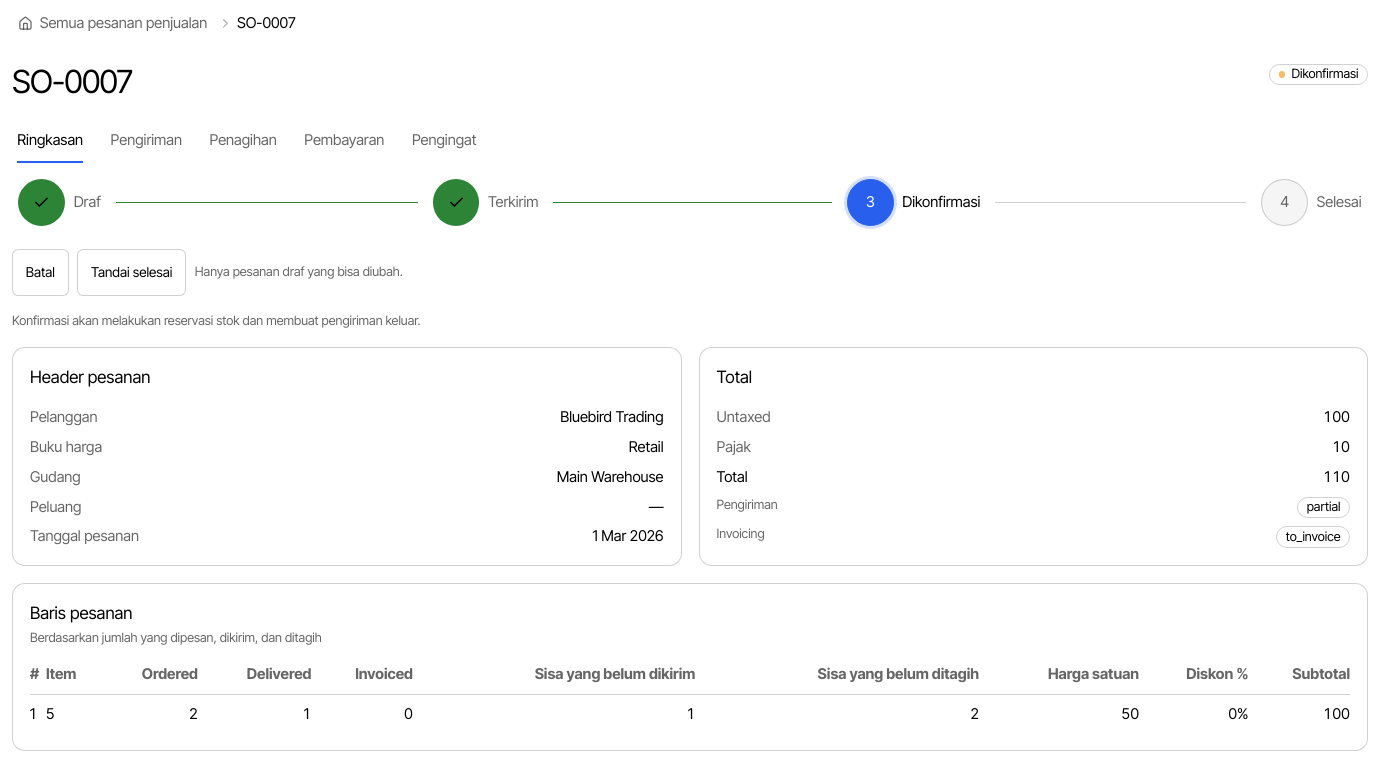
SaleOrderDetail › switches to the delivery tab on selection
What coordinates should you click on to do the following:
click the tab "Pengiriman"
I would click on:
 (146, 141)
Its box is x1=110 y1=117 x2=183 y2=164.
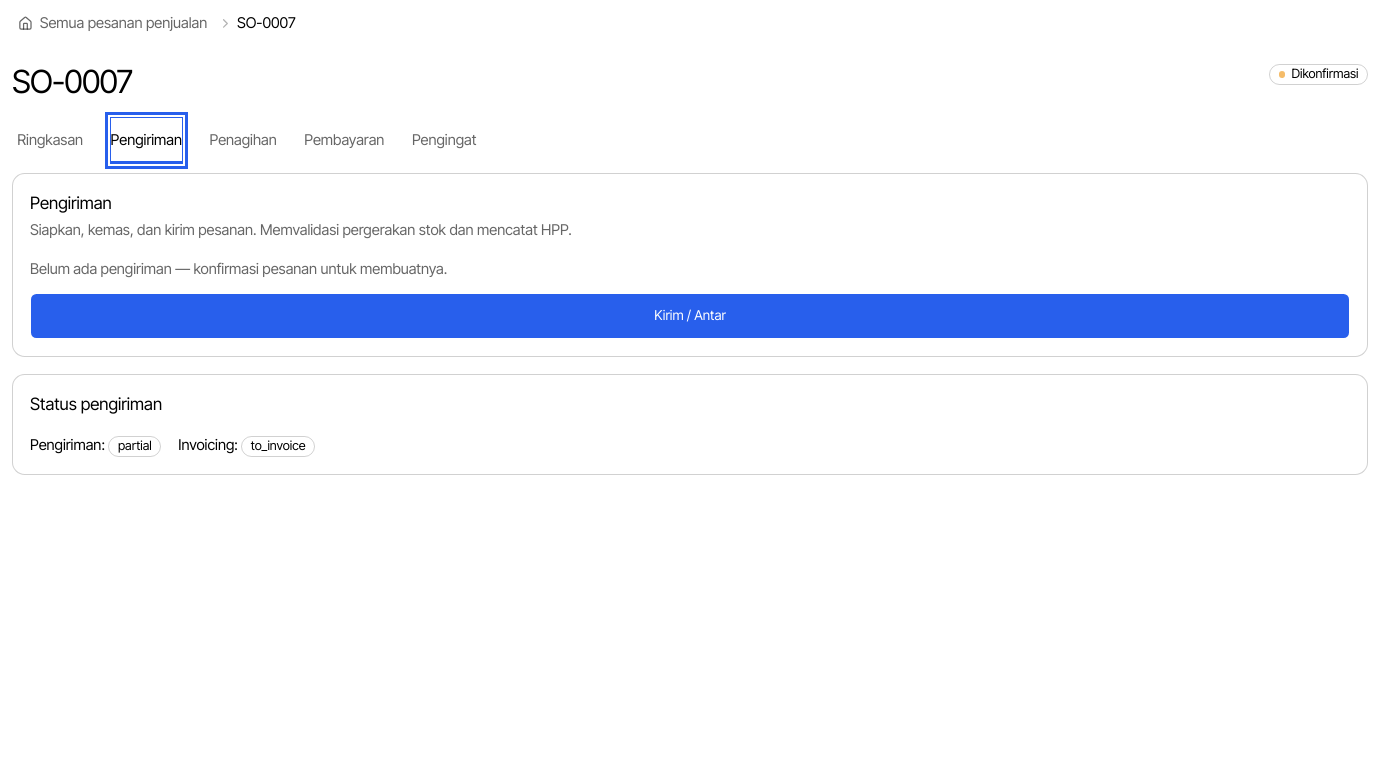
Now the button "Kirim / Antar" is shown, box x1=30 y1=293 x2=1350 y2=340
